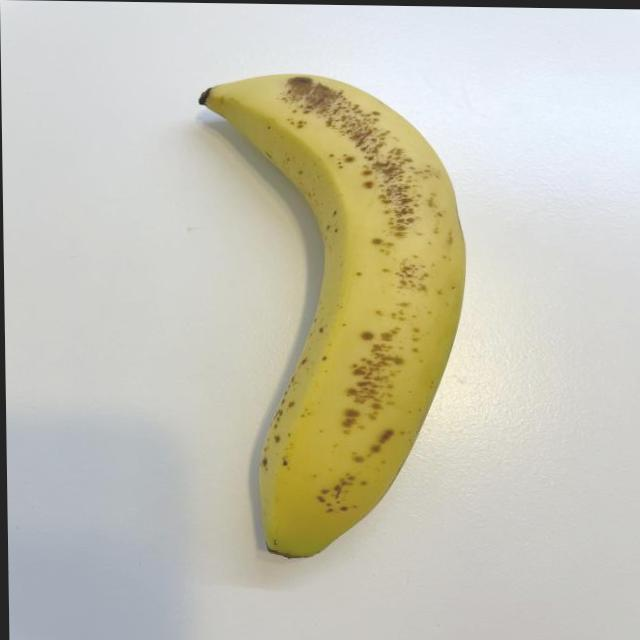banana: (188, 63, 474, 559)
